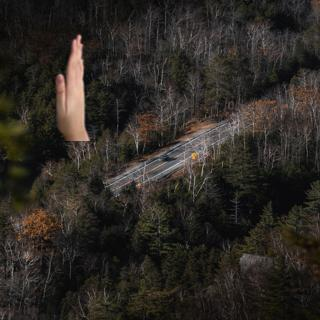Right: (48, 34, 95, 131)
